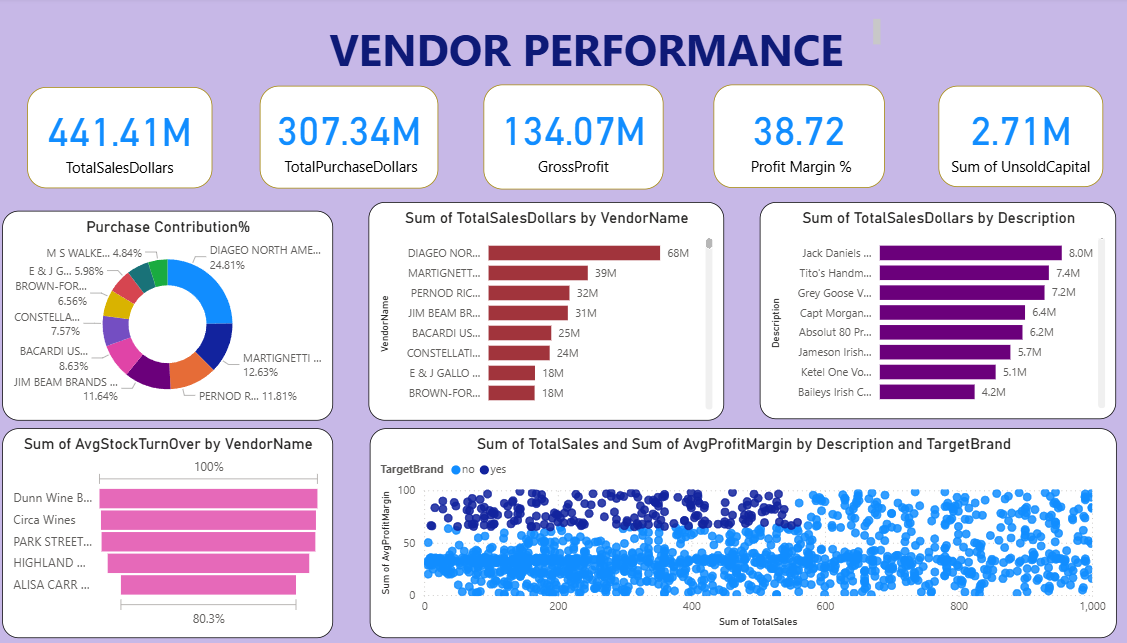

This screenshot's page, from the dashboard's own definition file:
{"tool":"powerbi","page":{"name":"Page 1","canvas":[1280,720],"ordinal":0},"visuals":[{"type":"card","fields":{"Values":["Sum(vendor_sales_summary.TotalSalesDollars)"]},"box":[38.6,92.9,202.9,111.4],"z":0},{"type":"card","fields":{"Values":["Sum(vendor_sales_summary.TotalPurchaseDollars)"]},"box":[302.9,88.6,197.1,112.9],"z":1000},{"type":"card","fields":{"Values":["Avg(vendor_sales_summary.ProfitMargin)"]},"box":[805.7,95.7,175.7,114.3],"z":2000},{"type":"card","fields":{"Values":["Sum(vendor_sales_summary.GrossProfit)"]},"box":[558.6,88.6,197.1,115.7],"z":3000},{"type":"card","fields":{"Values":["Sum(vendor_sales_summary.UnsoldCapital)"]},"box":[1040,90,181.4,127.1],"z":4000},{"type":"donutChart","title":"Purchase Contribution% ","fields":{"Category":["PurchaseContribution.VendorName"],"Y":["Sum(PurchaseContribution.PurchaseContribution%)"]},"box":[12.9,234.3,362.9,230],"z":5000},{"type":"textbox","box":[334.8,19.2,646.3,70],"z":6000},{"type":"clusteredBarChart","fields":{"Y":["Sum(vendor_sales_summary.TotalSalesDollars)"],"Category":["vendor_sales_summary.Description"]},"box":[844.3,225.7,391.4,238.6],"z":7000},{"type":"funnel","fields":{"Category":["LowTurnOverVendor.VendorName"],"Y":["Sum(LowTurnOverVendor.AvgStockTurnOver)"]},"box":[13,474,363,230],"z":8000},{"type":"clusteredBarChart","fields":{"Y":["Sum(vendor_sales_summary.TotalSalesDollars)"],"Category":["vendor_sales_summary.VendorName"]},"box":[415,225,390,240],"z":9000},{"type":"scatterChart","fields":{"Category":["BrandPerformance.Description"],"X":["Sum(BrandPerformance.TotalSales)"],"Y":["Sum(BrandPerformance.AvgProfitMargin)"],"Series":["BrandPerformance.TargetBrand"]},"box":[416,474,820,230],"z":10000}]}

Visuals, with their boxes in screenshot pixels (x1, y1, x2, y2), scaled from the page's 1280x720 canvas onto the 1127x643 screenshot:
card - Sum(vendor_sales_summary.TotalSalesDollars): <region>34, 83, 213, 182</region>
card - Sum(vendor_sales_summary.TotalPurchaseDollars): <region>267, 79, 440, 180</region>
card - Avg(vendor_sales_summary.ProfitMargin): <region>709, 85, 864, 188</region>
card - Sum(vendor_sales_summary.GrossProfit): <region>492, 79, 665, 182</region>
card - Sum(vendor_sales_summary.UnsoldCapital): <region>916, 80, 1075, 194</region>
"Purchase Contribution% " donutChart: <region>11, 209, 331, 415</region>
textbox: <region>295, 17, 864, 80</region>
clusteredBarChart - Sum(vendor_sales_summary.TotalSalesDollars) x vendor_sales_summary.Description: <region>743, 202, 1088, 415</region>
funnel - LowTurnOverVendor.VendorName x Sum(LowTurnOverVendor.AvgStockTurnOver): <region>11, 423, 331, 629</region>
clusteredBarChart - Sum(vendor_sales_summary.TotalSalesDollars) x vendor_sales_summary.VendorName: <region>365, 201, 709, 415</region>
scatterChart - BrandPerformance.Description x Sum(BrandPerformance.TotalSales): <region>366, 423, 1088, 629</region>
